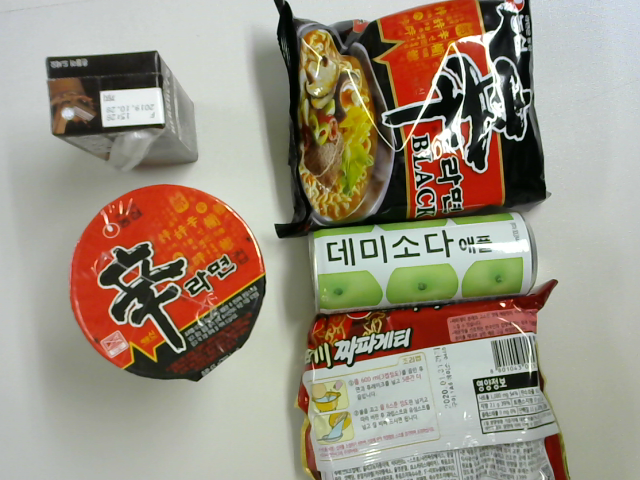Demisoda_Apple_Can_250ml: (313, 216, 543, 310)
Hush_Choco_Drink: (41, 46, 203, 172)
Sichuan_Chapaghetti: (293, 282, 579, 480)
Sinramen_Black: (273, 4, 553, 224)
Sinramen_small: (67, 184, 267, 384)
